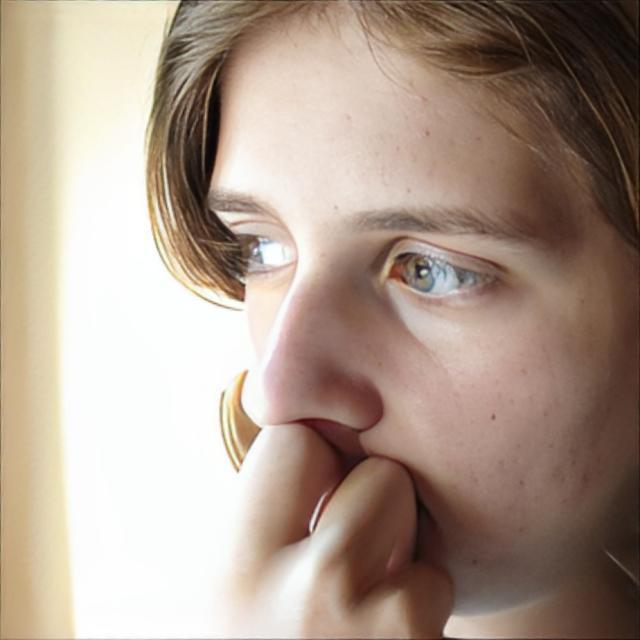fear: (201, 0, 640, 620)
